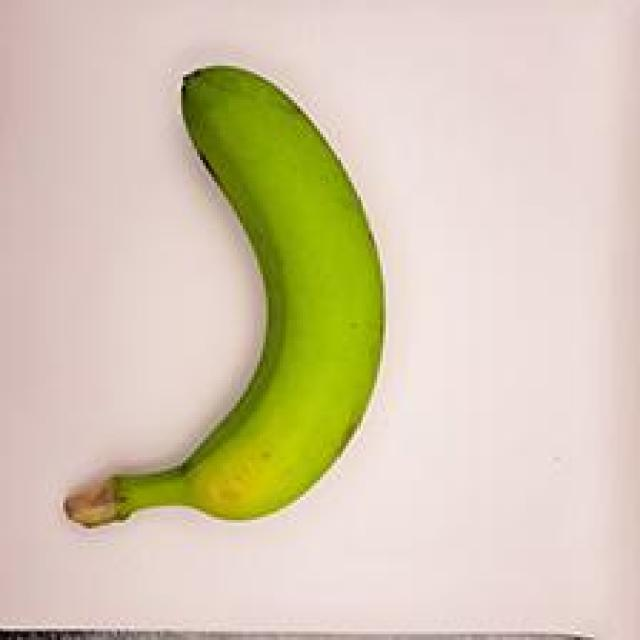unripe: (52, 43, 385, 558)
